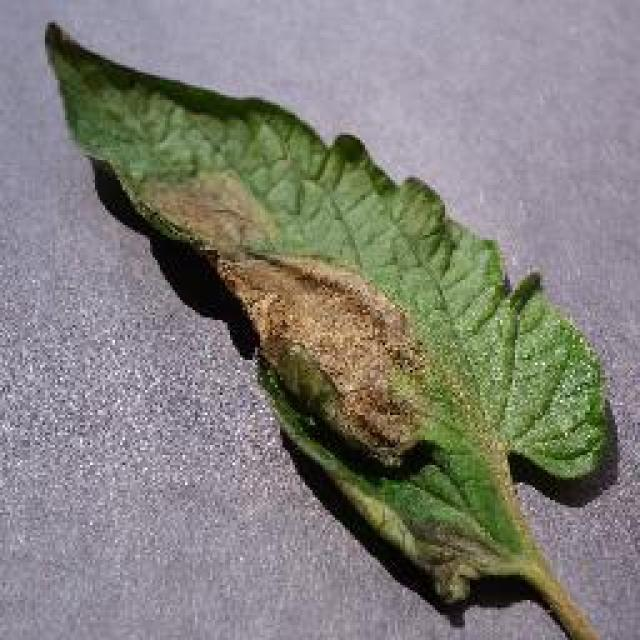Tomato Late Blight: (119, 133, 508, 577)
